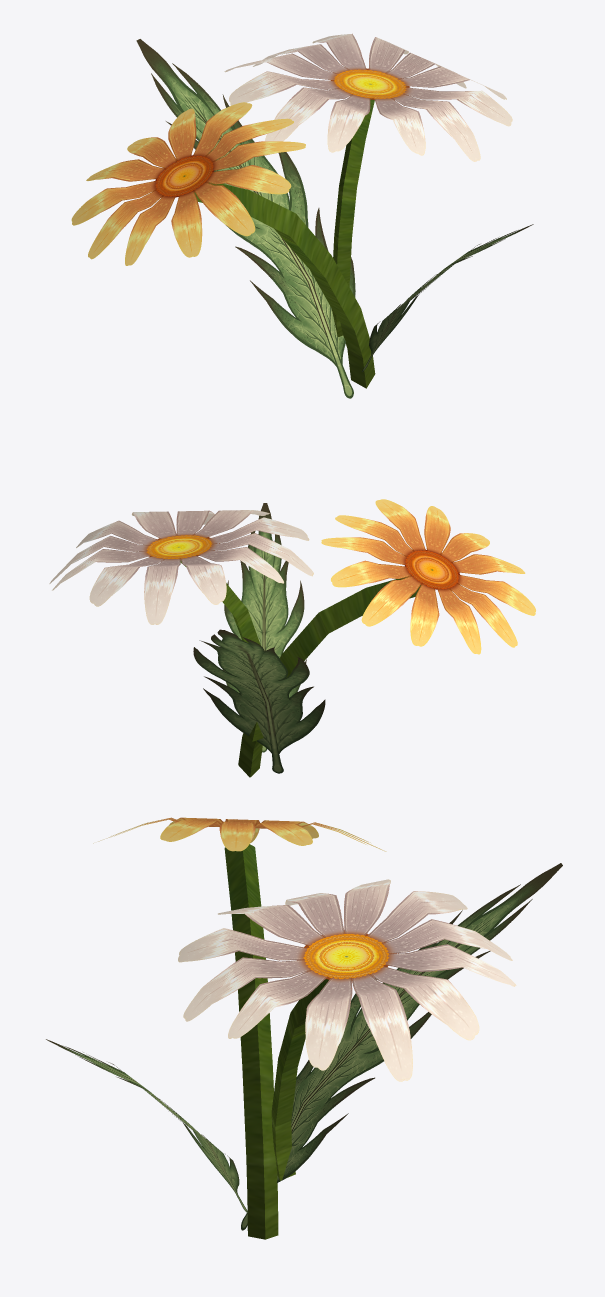
Rendered from flower_2.fbx.
3 renders of one model, top to bottom at view 1: azimuth 30°, elevation 25°; view 2: azimuth 150°, elevation 25°; view 3: azimuth 270°, elevation 25°, orthographic. The views are drawn at different scales.
Parts seen in each view (by area): view 1: Plane.026; view 2: Plane.026; view 3: Plane.026.
Part boxes in pixels (x1,y1,x2,y2): Plane.026: (71, 33, 533, 398); Plane.026: (49, 499, 535, 777); Plane.026: (46, 817, 562, 1239).
Bounding box in the file's own units: 45.84 × 26.72 × 38.76.
